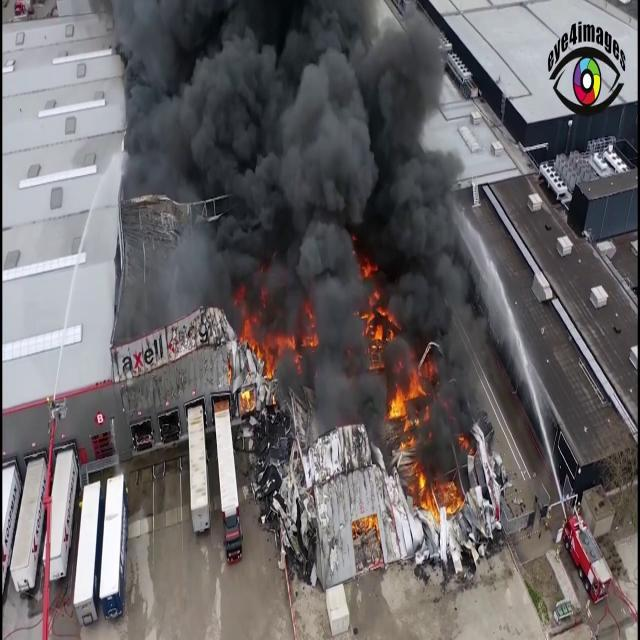Fire: (385, 352, 439, 452), (406, 468, 466, 538)
Smoke: (128, 1, 493, 445)
